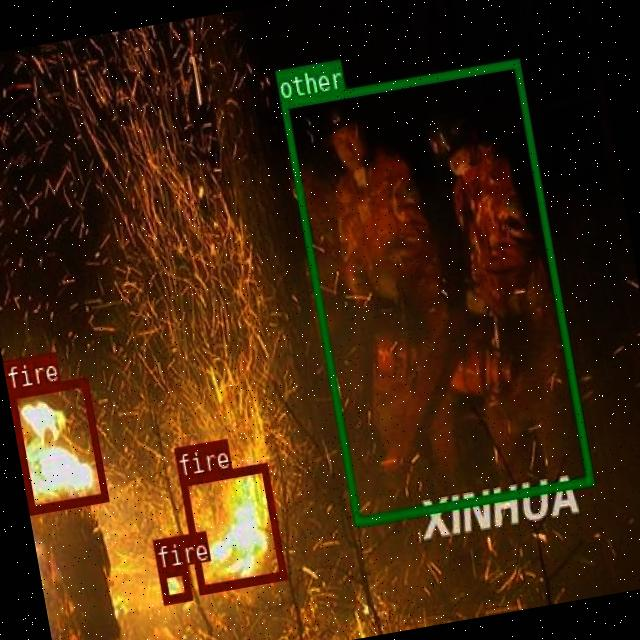fire: (178, 461, 285, 592), (8, 374, 108, 512), (156, 563, 191, 603)
